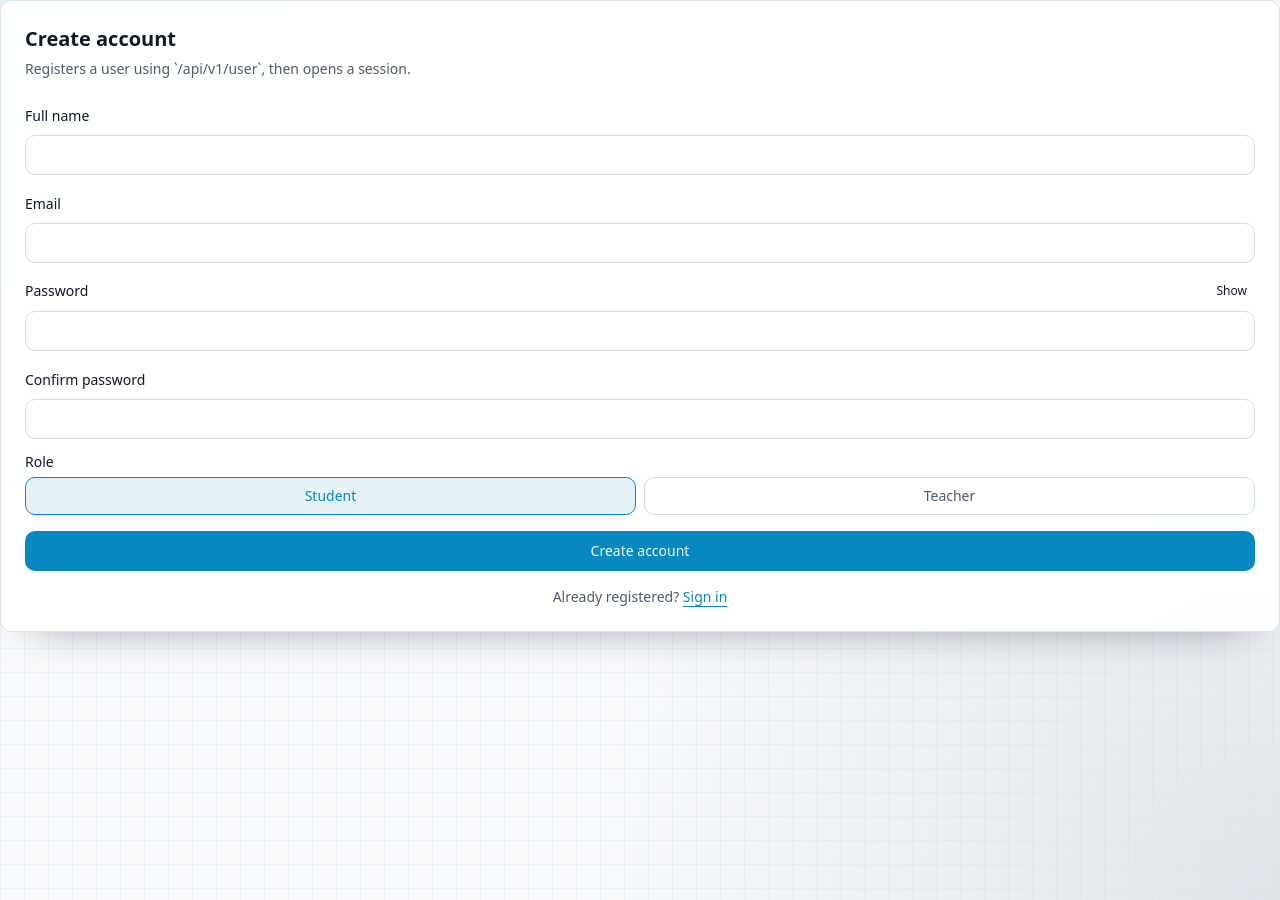
Test: RegisterForm › toggles password visibility for password and confirm password
Click the button "Show". click: (1232, 291)
box: [1208,279,1255,303]
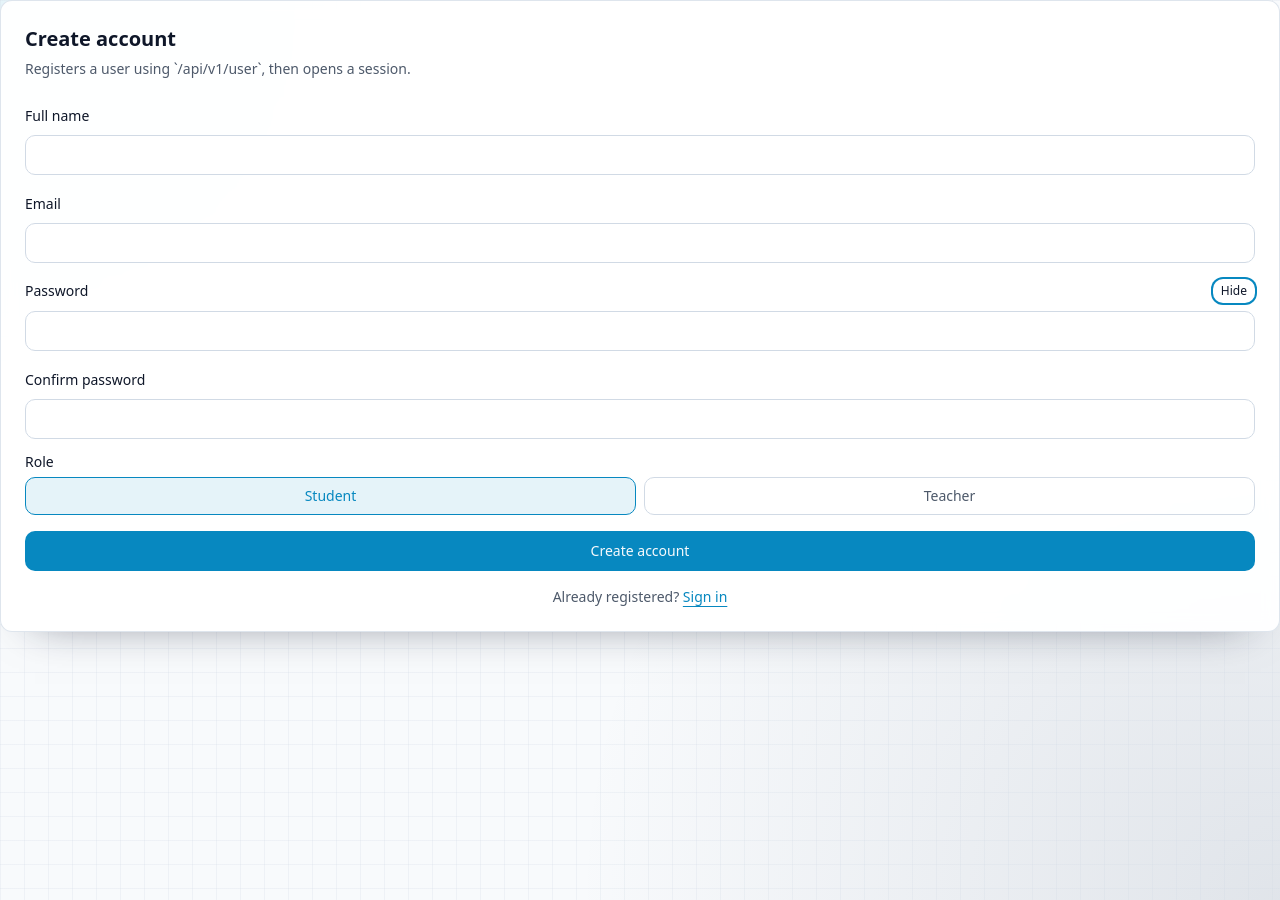
Result: the button "Hide" is shown at [1213,279,1255,303]
